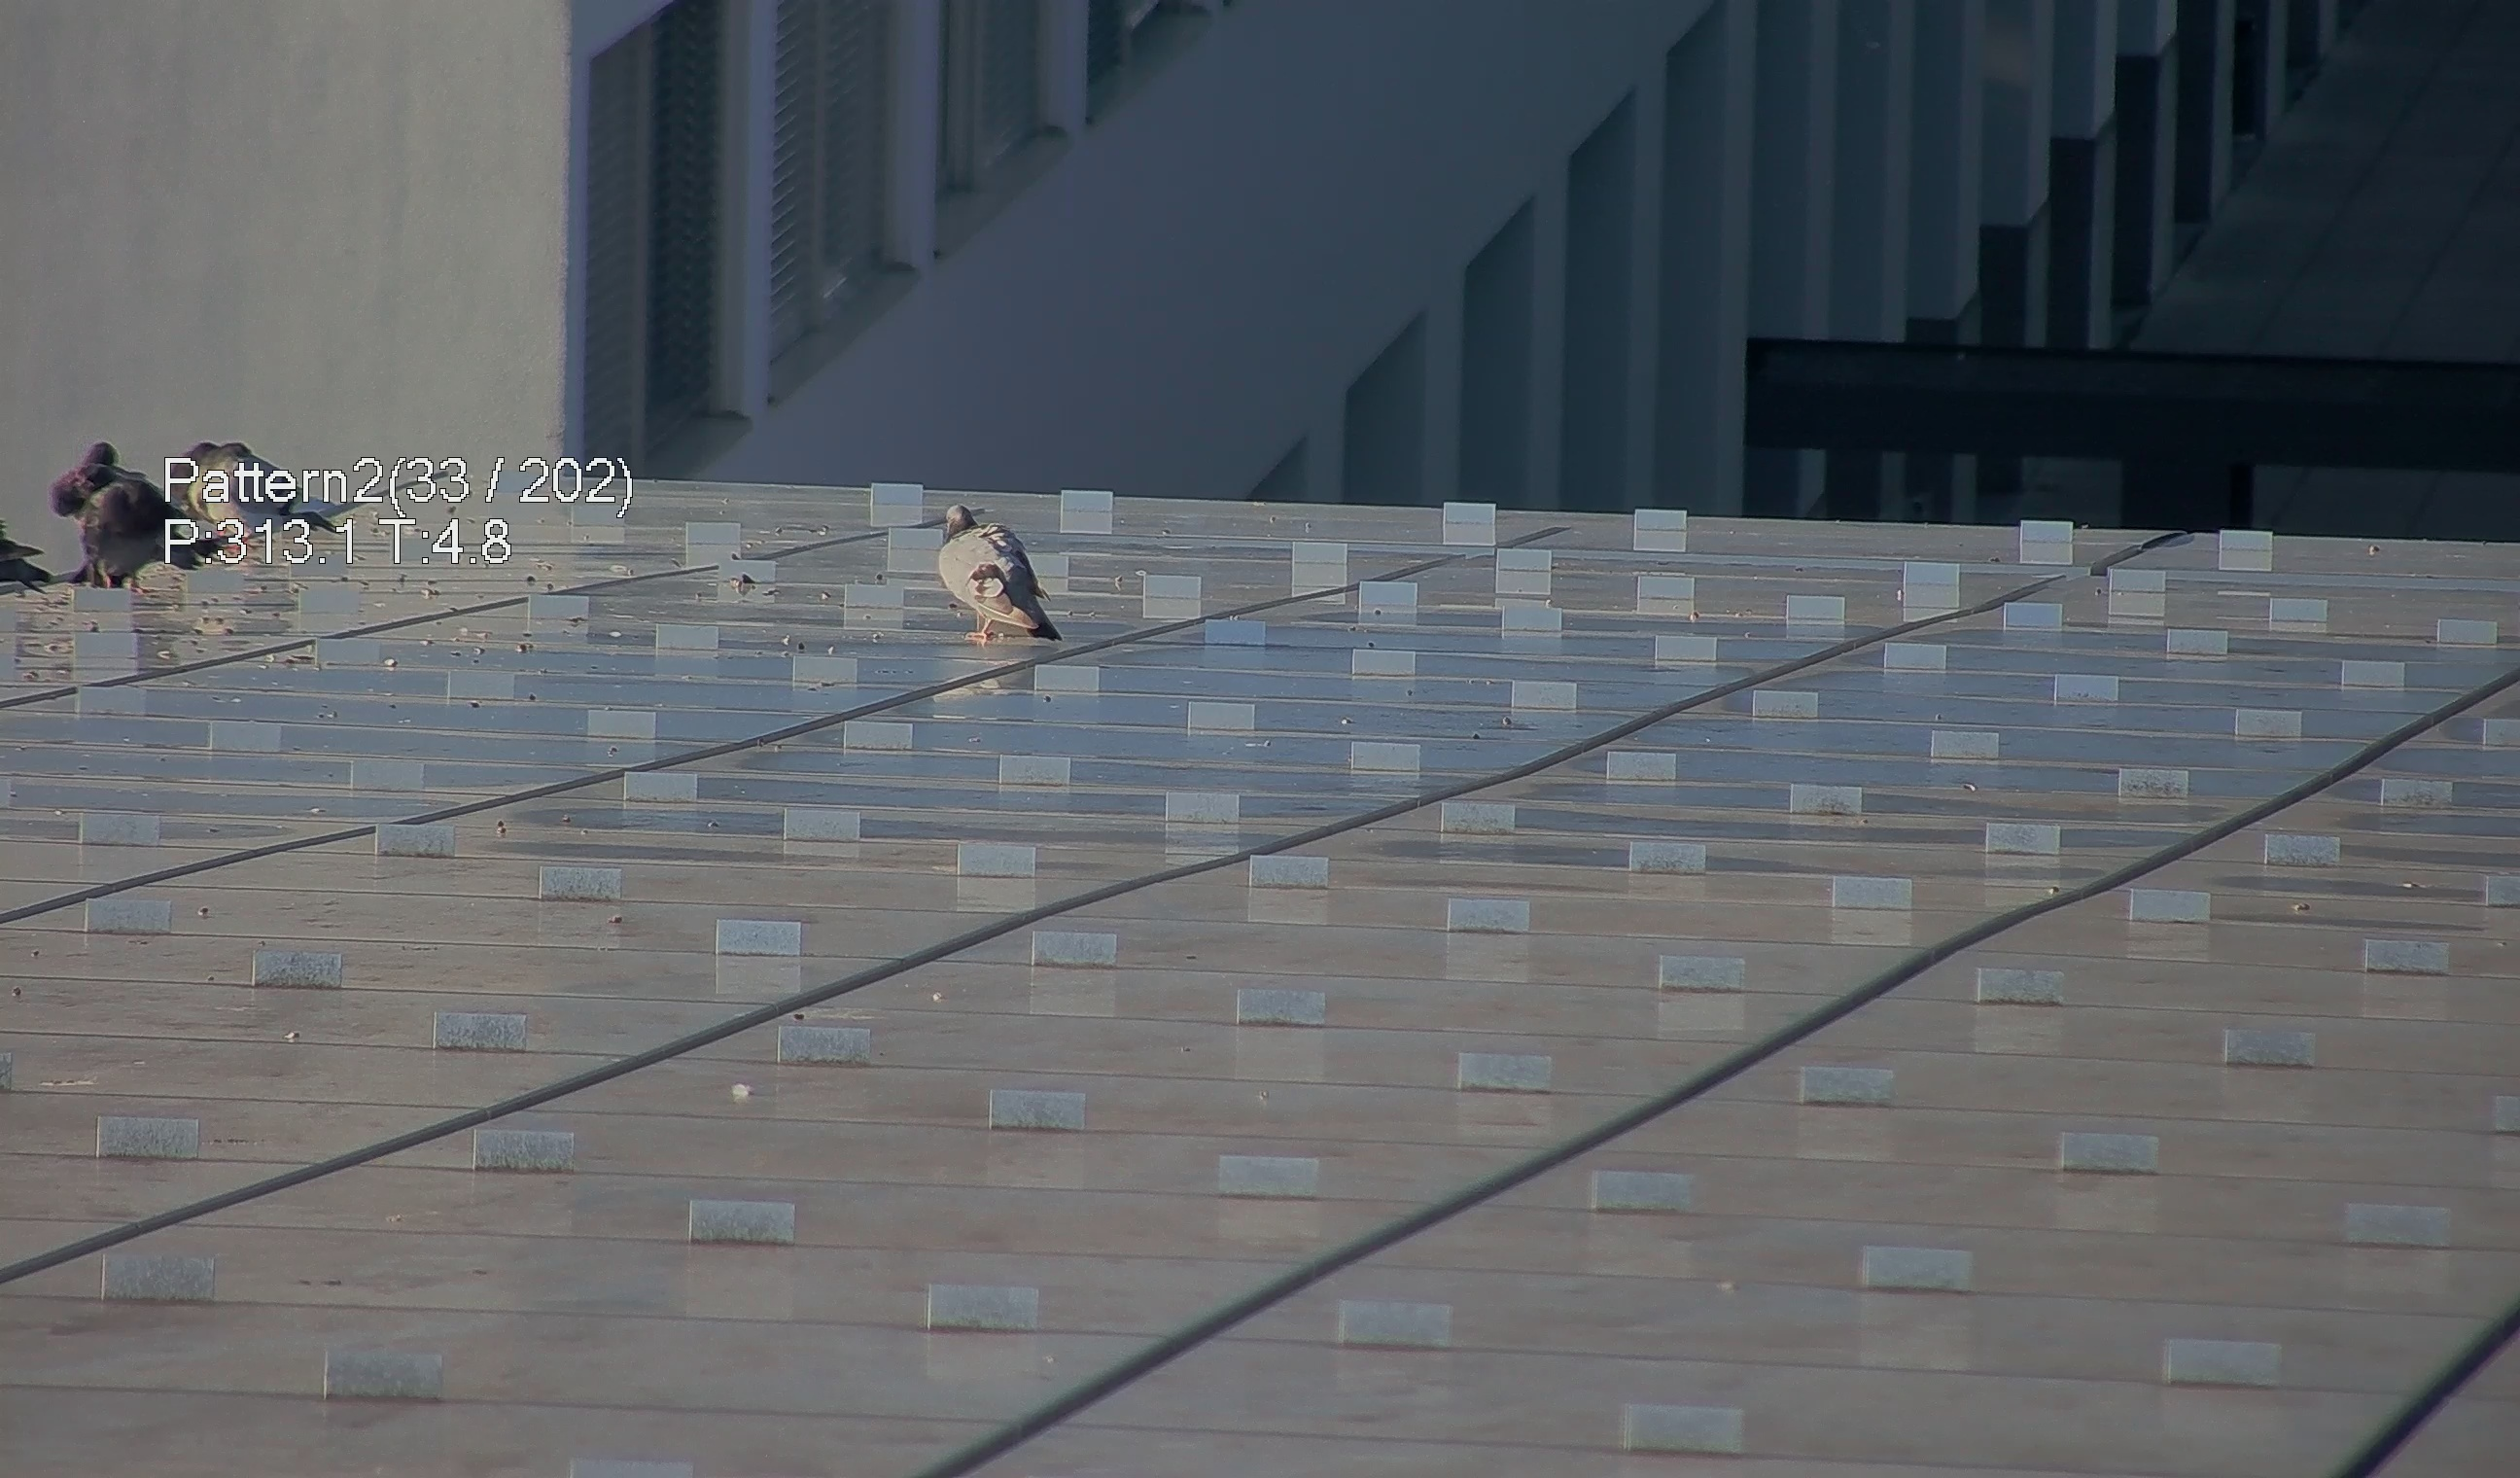Pigeon: (63, 443, 225, 584), (923, 494, 1064, 653), (2, 512, 53, 596)
